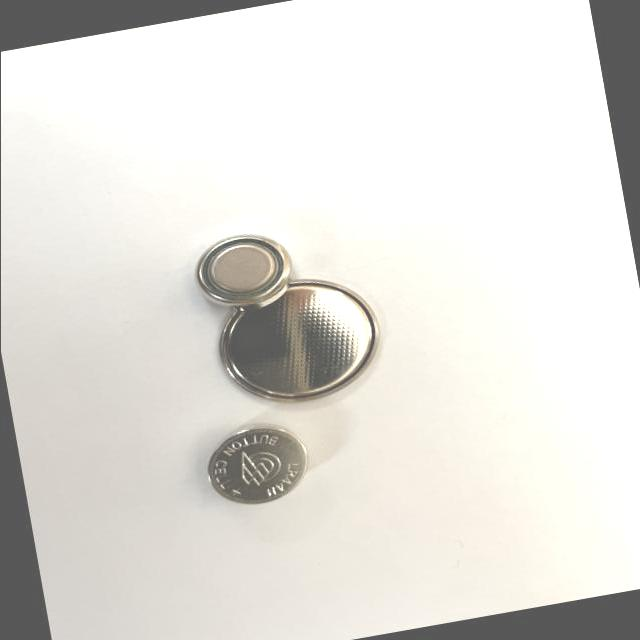COIN: (206, 267, 389, 416), (202, 417, 314, 511), (188, 224, 298, 314)
